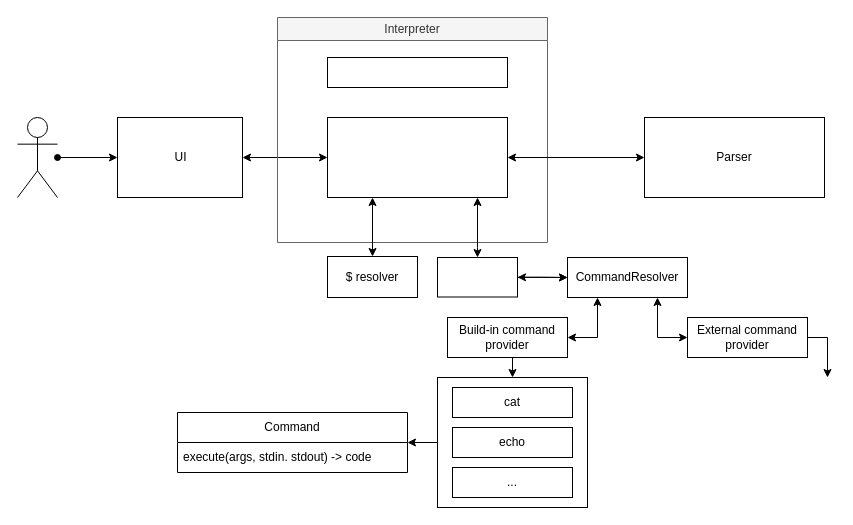
Image size: 853x525. Some labels were removed from this diagram. Here are the shapes that lost their labels. From the top down, the centre of each, then its label:
the point at 417,72: Enviroment
the point at 417,157: Executor
the point at 477,276: PipeResolver
